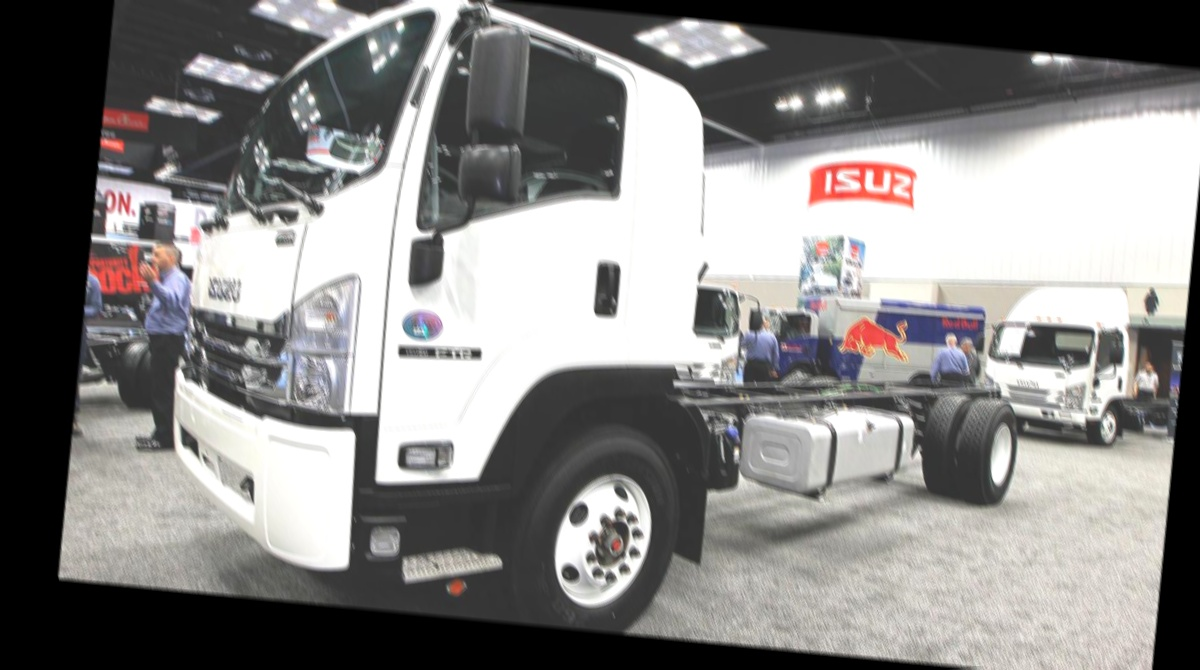truck: (154, 0, 1052, 660)
